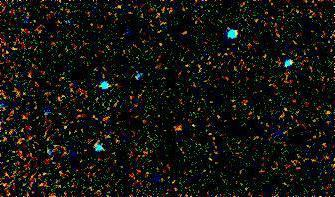star: (162, 116, 192, 146)
